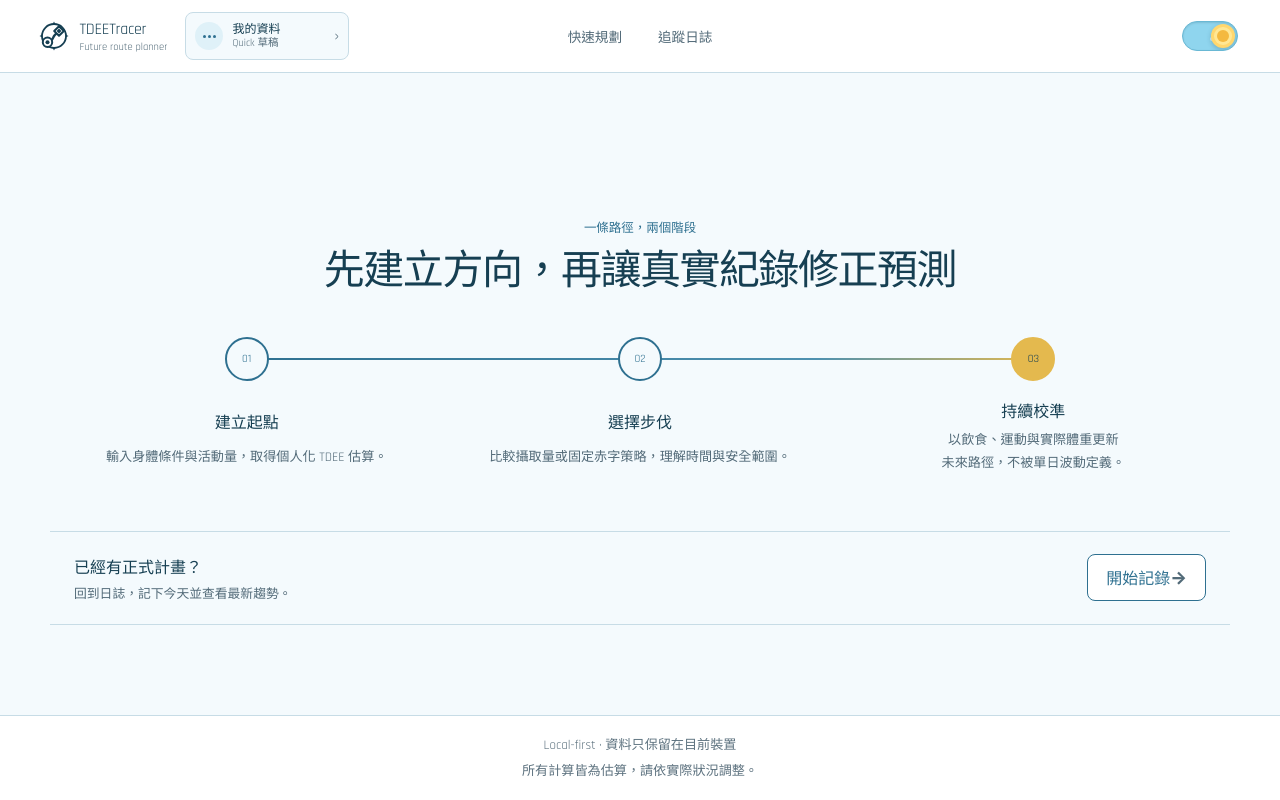
Test case: App navigation interactions › uses the same plan guard from the Home detailed choice
The width and height of the screenshot is (1280, 800).
(page scrolled)
What coordinates should you click on to do the following:
click the button "開始記錄→"
I would click on:
 (1147, 578)
Its box is [1087,554,1206,601].
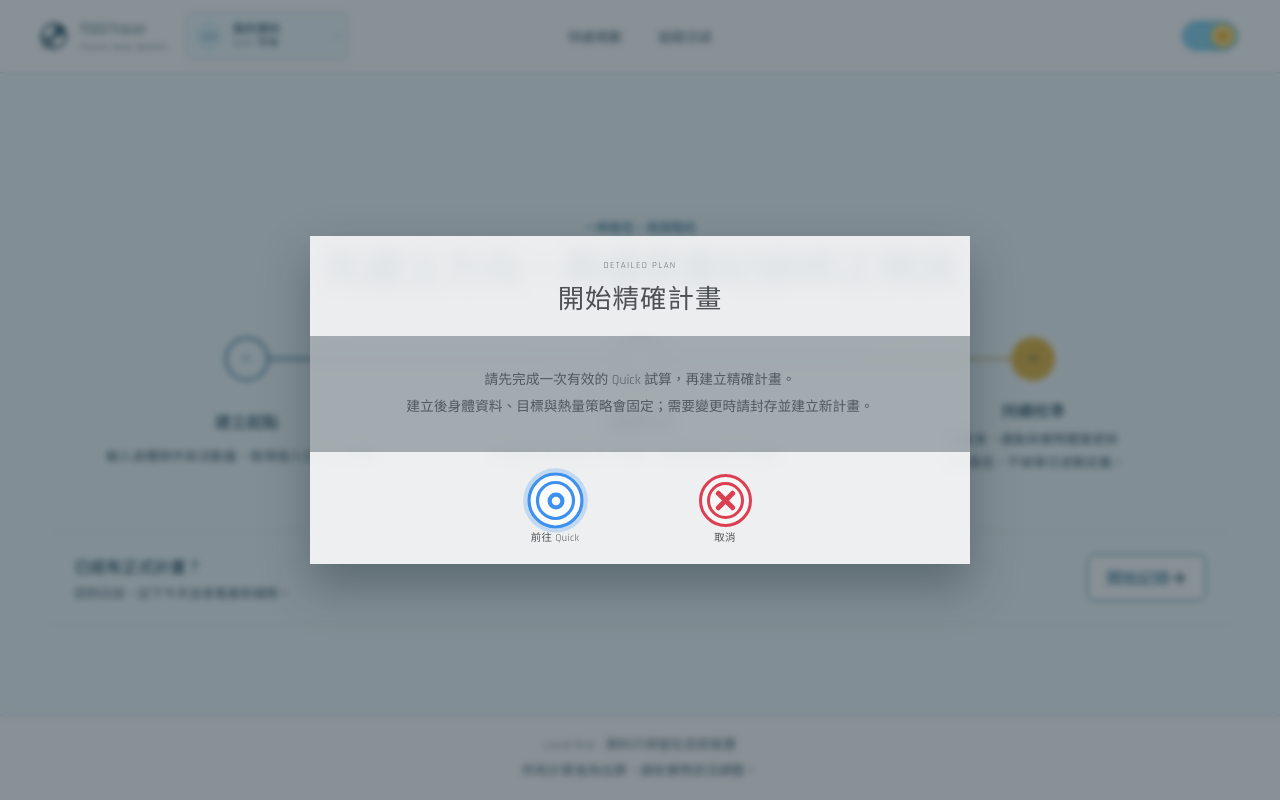
Result: the dialog "開始精確計畫" is shown at [310,236,970,564]
